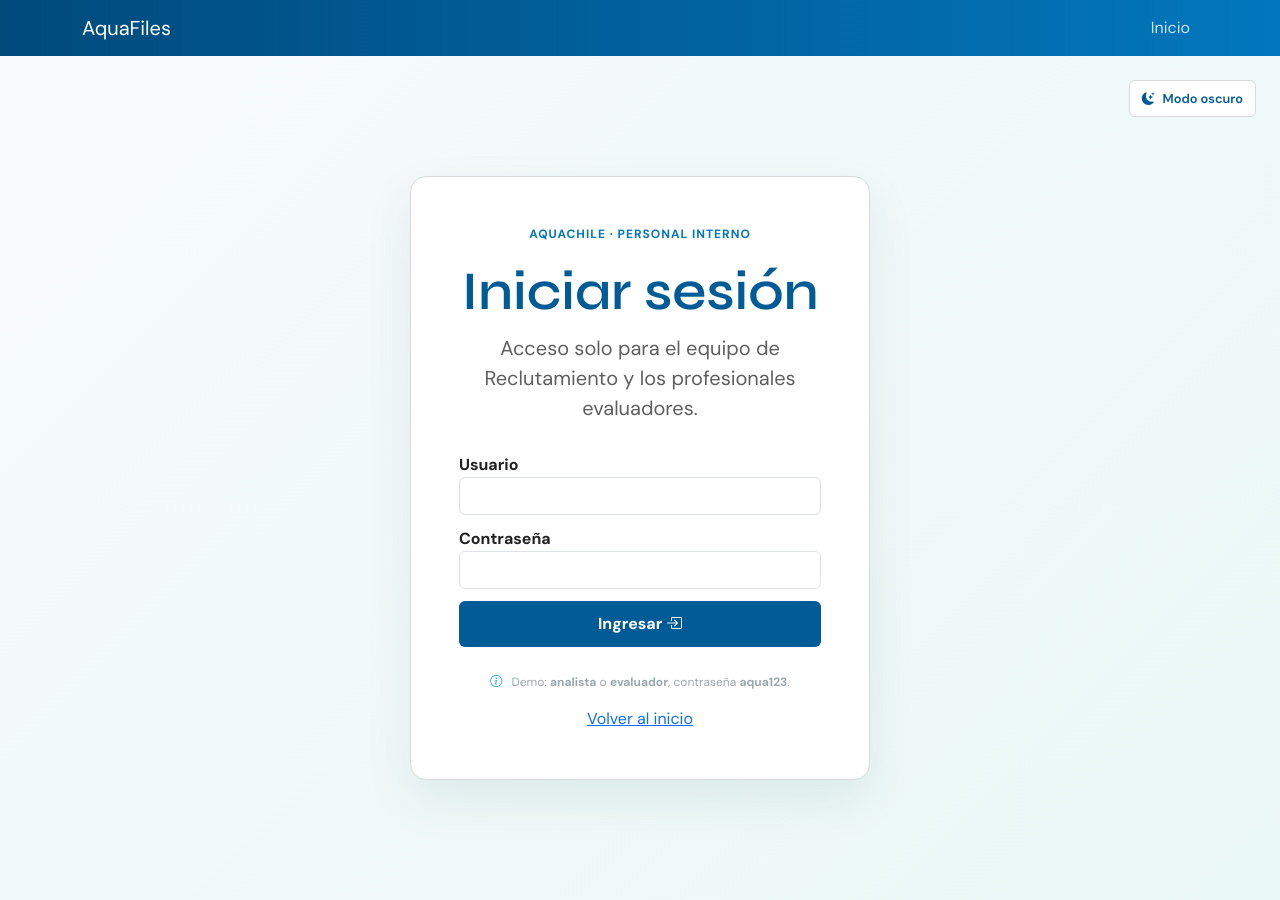
Test: Navegación con React Router › no inicia sesión con una contraseña incorrecta
The image size is (1280, 900).
Type "analista" into the field labelled "Usuario" at point(640, 496), box top-left (459, 477), bottom-right (821, 515)
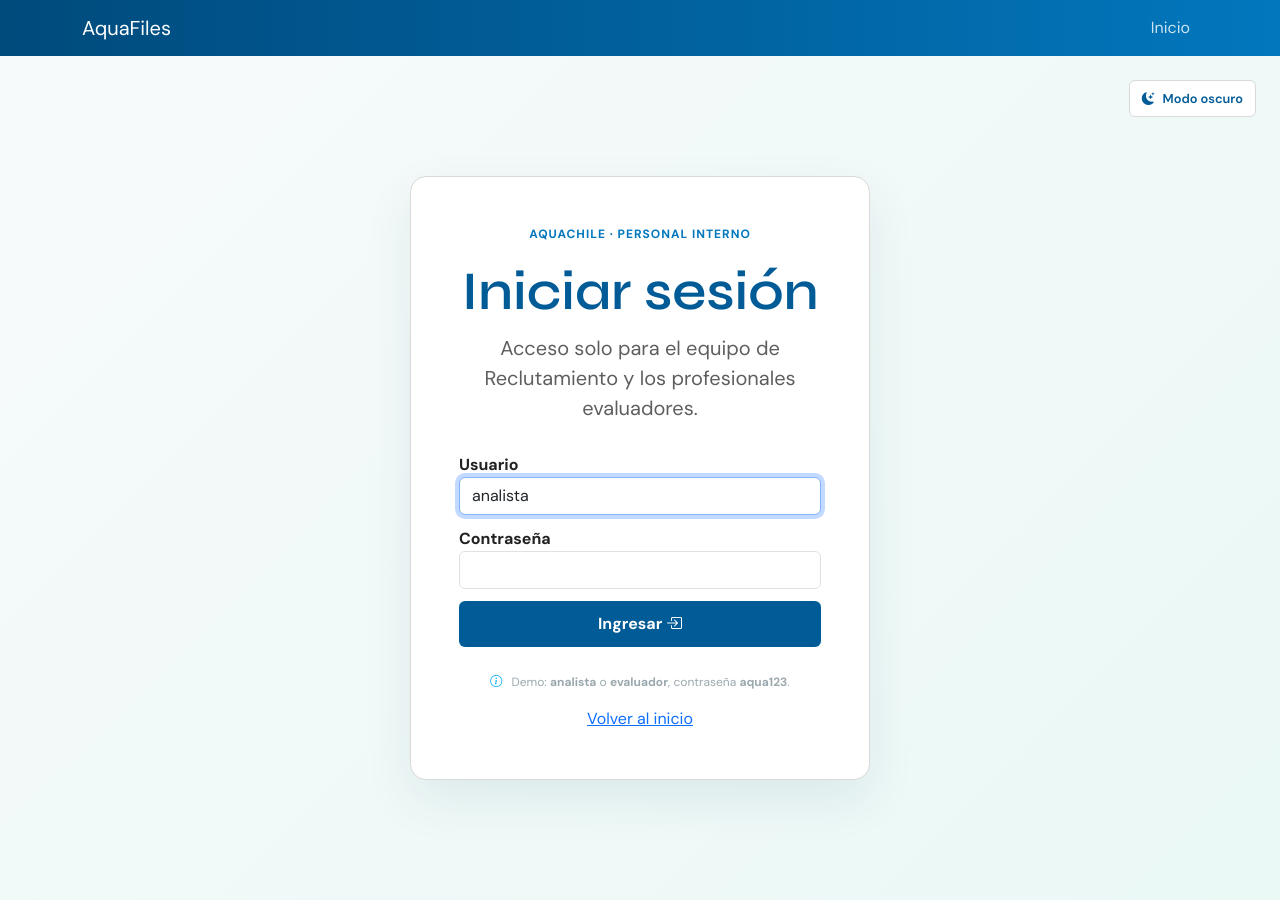
Type "1234" into the password field labelled "Contraseña" at point(640, 570), box top-left (459, 551), bottom-right (821, 589)
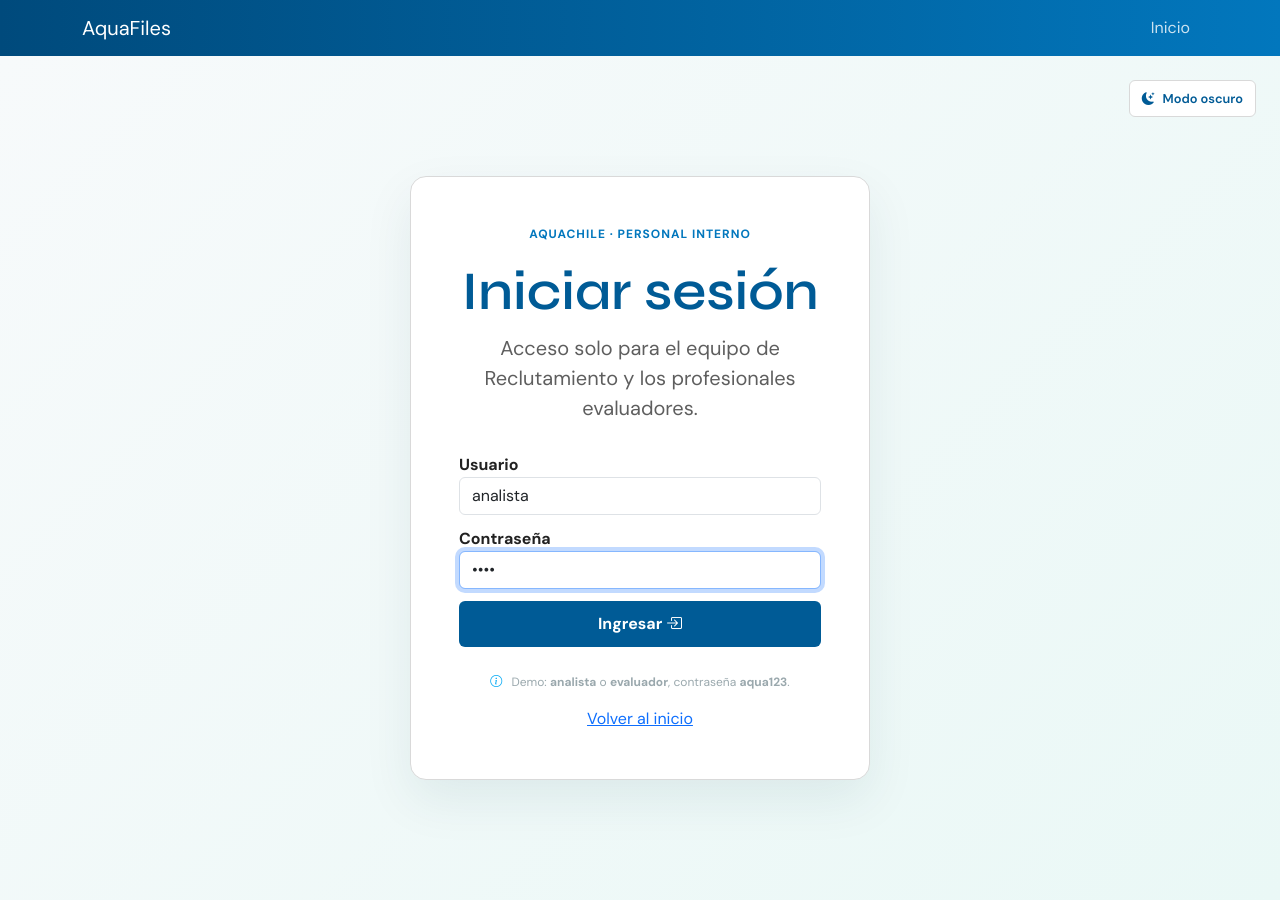
Click the button "Ingresar" at point(640, 624), box top-left (459, 601), bottom-right (821, 647)
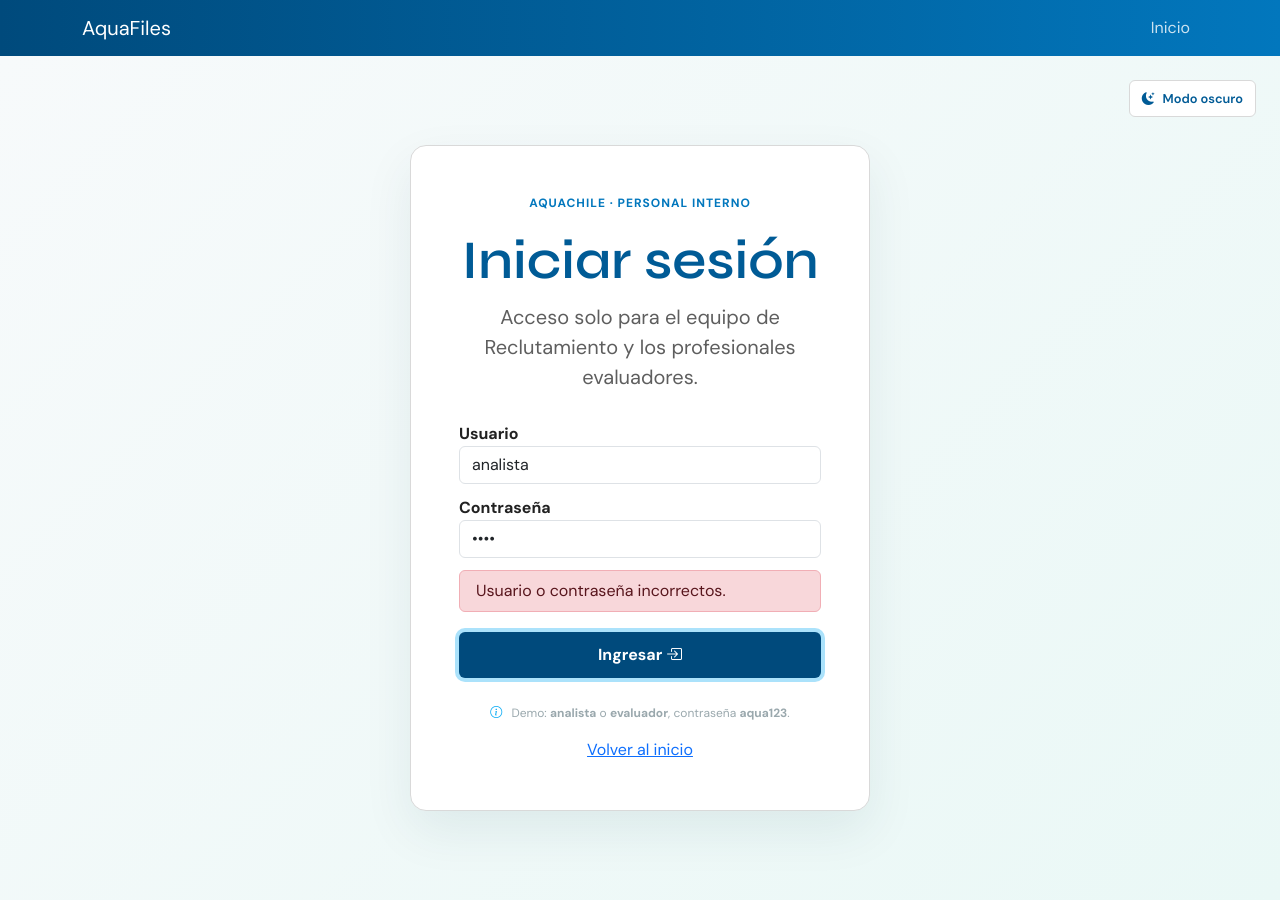
Now the message reads "Usuario o contraseña incorrectos.", box top-left (476, 580), bottom-right (726, 601)
